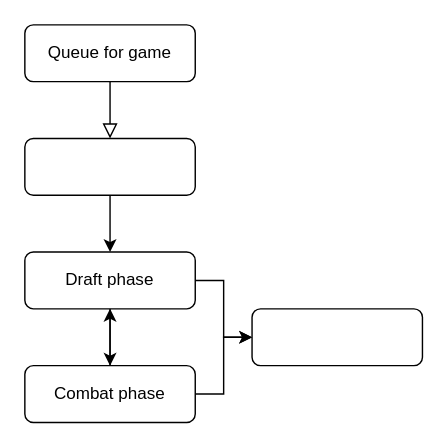
Some shapes in this 447 by 447 pixel diagram are drawn without their labels. Each missing label, with the centre of its shape:
"Outcome" belongs at pixel 336 336.
"Select Champion" belongs at pixel 109 166.
